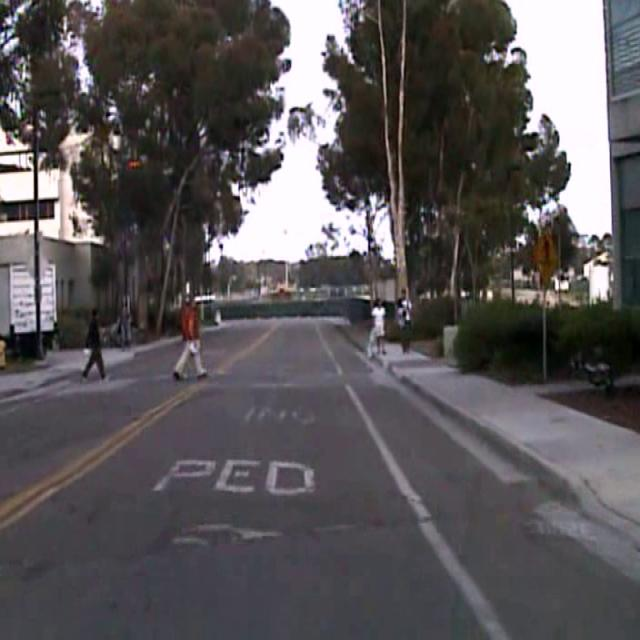pedestrianCrossing: (530, 228, 560, 283)
